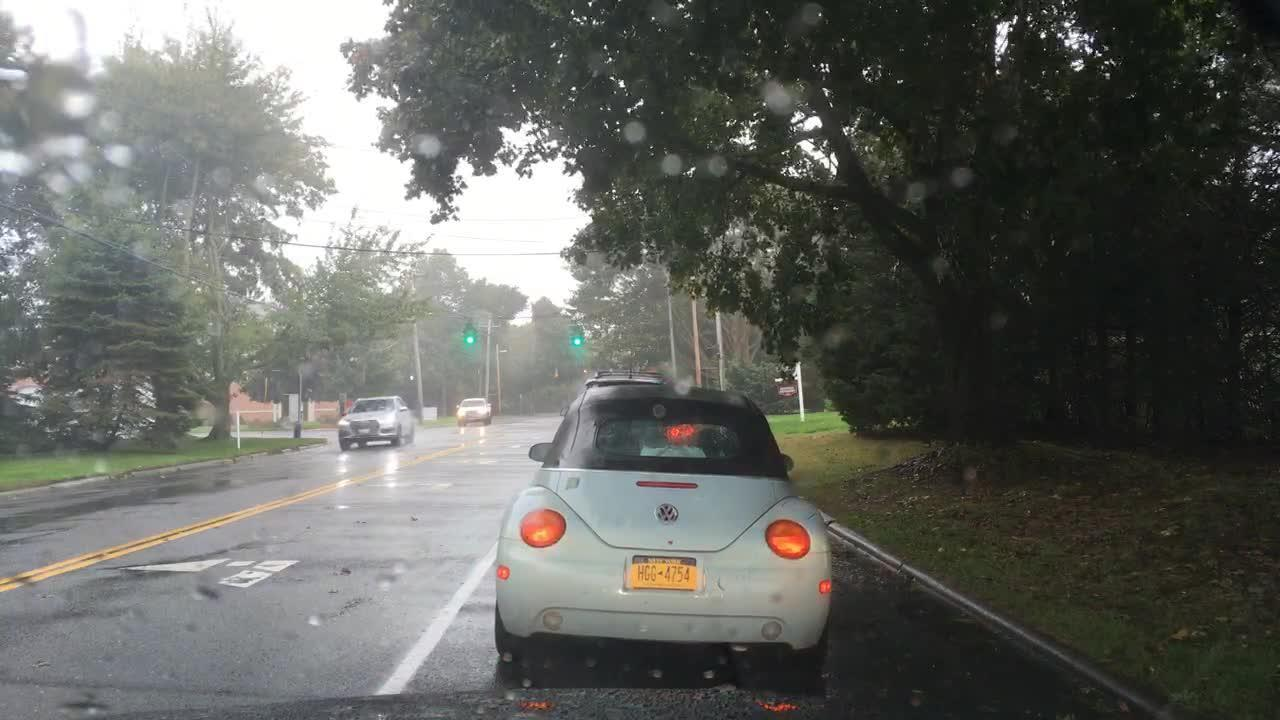Volkswagen: (652, 500, 684, 530)
